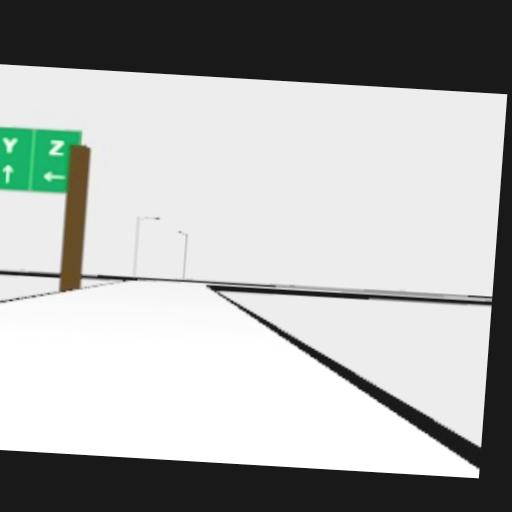Left: (43, 169, 66, 183)
Straight: (1, 163, 14, 183)
Y: (1, 136, 18, 154)
Z: (48, 138, 65, 155)
